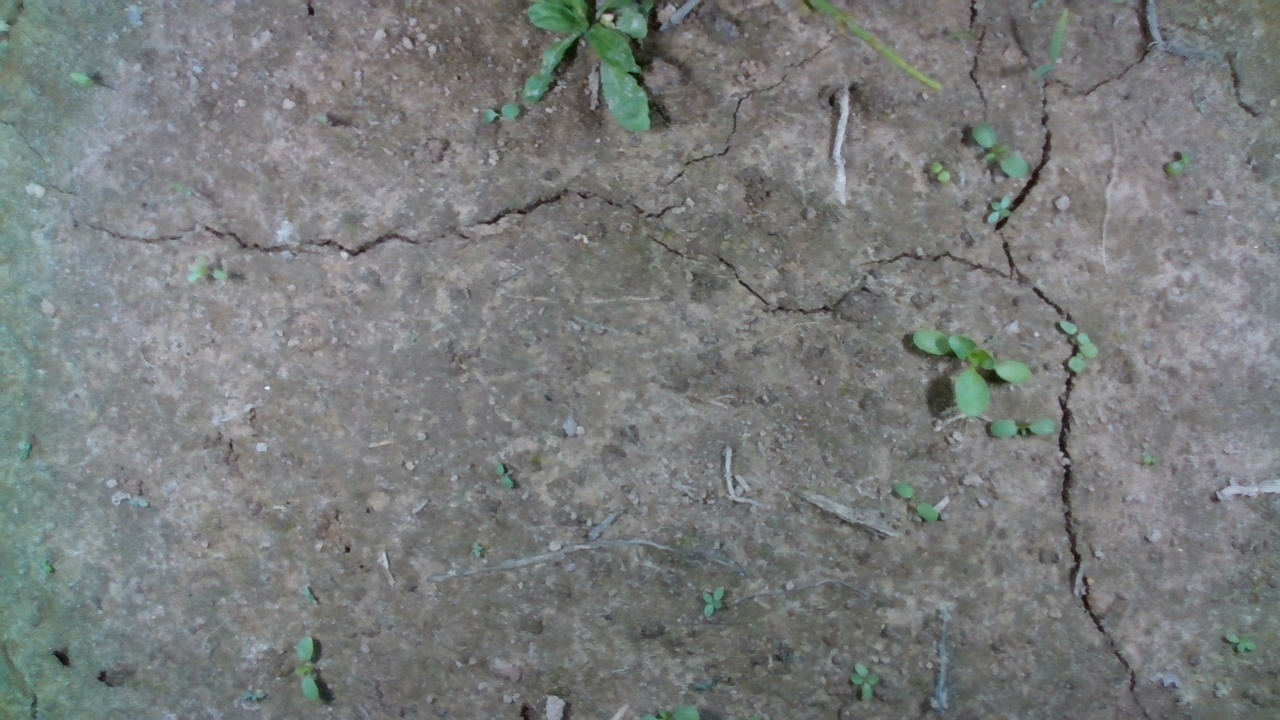weed: (968, 122, 1031, 177), (889, 480, 940, 522), (188, 257, 250, 290), (1161, 151, 1213, 184), (988, 418, 1059, 439), (1214, 628, 1257, 660), (56, 66, 100, 97), (697, 586, 732, 623), (985, 193, 1016, 234), (847, 658, 881, 695), (921, 159, 955, 187)
